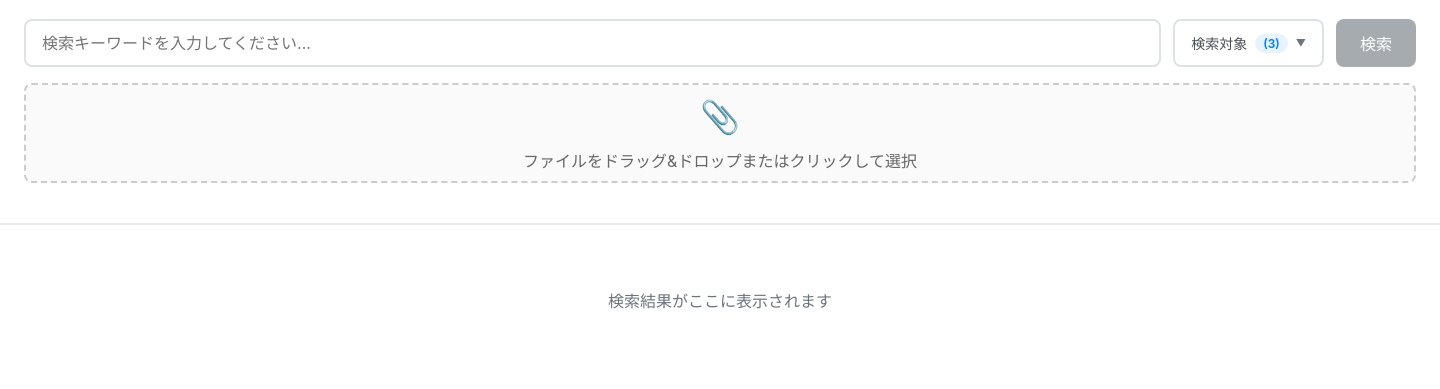
Test: SearchPage › should display error message when search fails
Type "test" into the field with placeholder "検索キーワードを入力してください..." at (593, 43), box [24,19,1161,67]
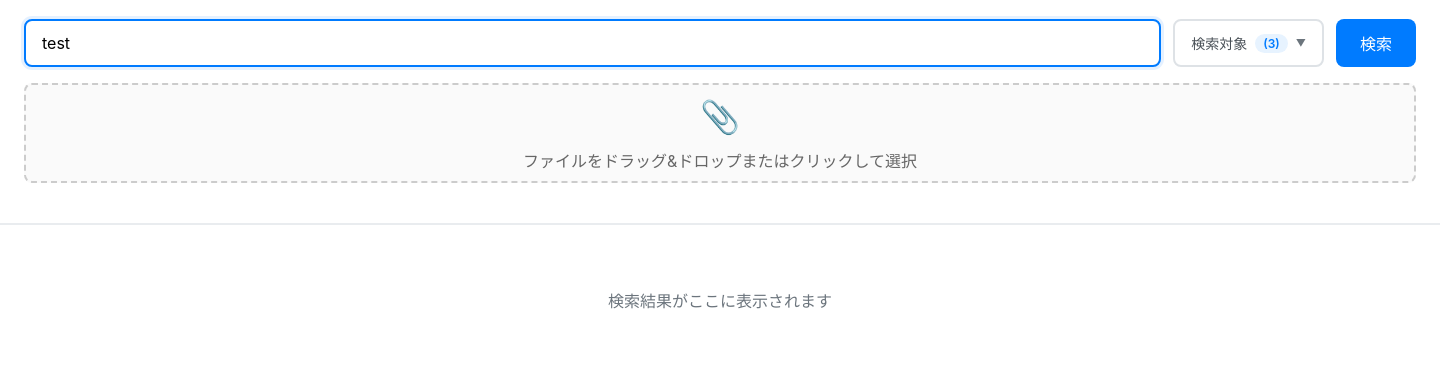
Click the button "検索" at (1376, 43), box [1336,19,1416,67]
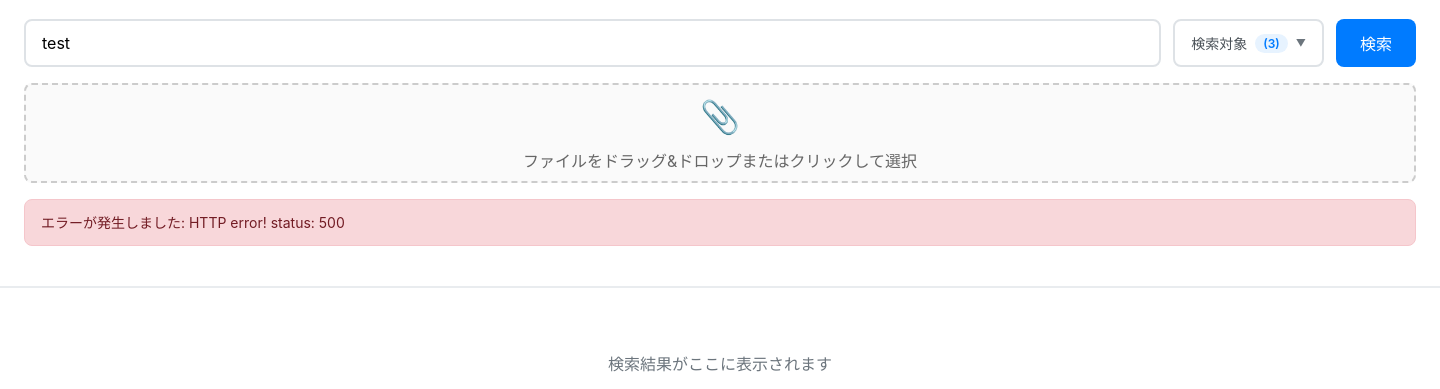
Expected: the text "エラーが発生しました: HTTP error! status: 500" is shown, [24,199,1416,246]
